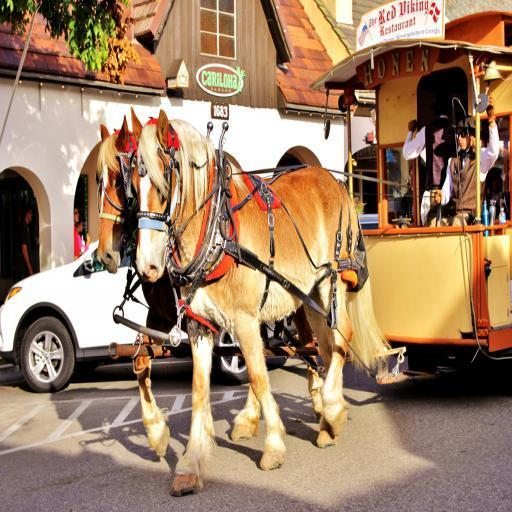horse: (132, 108, 395, 498), (98, 117, 320, 463)
